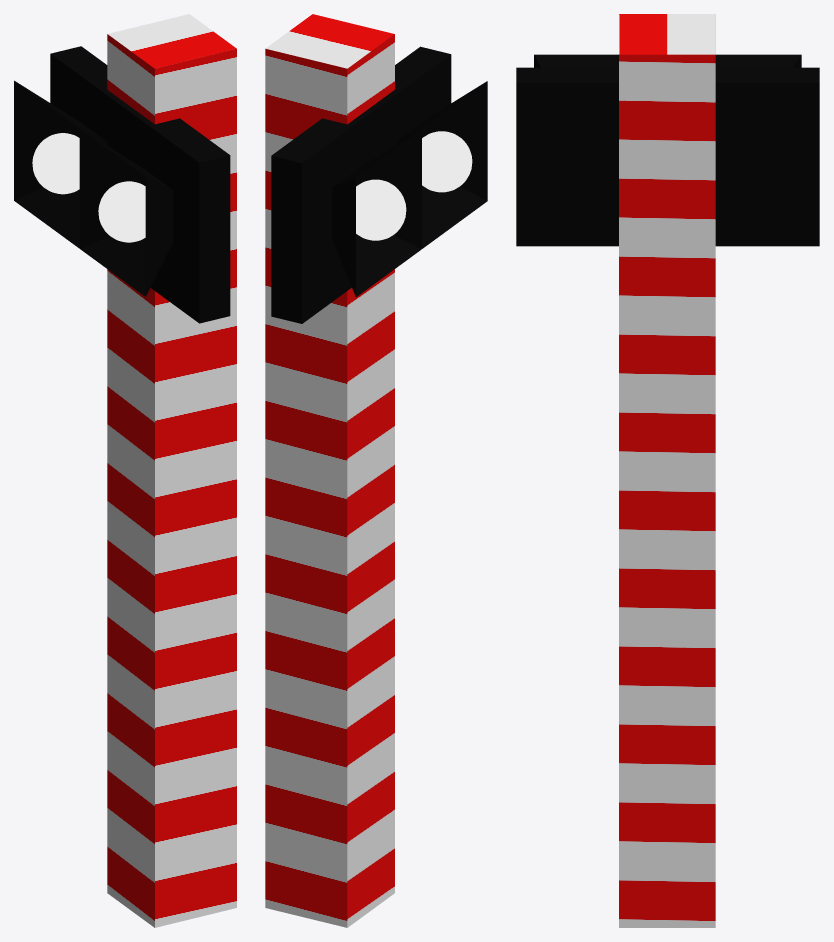
The model's file is pole.fbx.
3 views of the same model, side by side, from view 1: azimuth 30°, elevation 25°; view 2: azimuth 150°, elevation 25°; view 3: azimuth 270°, elevation 25° (orthographic).
Visible parts, largest first — view 1: Pole, holder-main, holder-right, holder-left, bulb-right, bulb-left; view 2: Pole, holder-main, holder-left, holder-right, bulb-right, bulb-left; view 3: Pole, holder-main, holder-left, holder-right.
Part boxes in pixels (x1,y1,x2,y2): Pole: (107, 14, 236, 927); holder-main: (50, 46, 230, 323); holder-right: (80, 129, 173, 296); holder-left: (14, 80, 107, 248); bulb-right: (98, 181, 145, 242); bulb-left: (32, 133, 79, 194); Pole: (265, 14, 394, 927); holder-main: (271, 46, 451, 323); holder-left: (332, 129, 421, 297); holder-right: (398, 81, 487, 248); bulb-right: (422, 131, 472, 192); bulb-left: (356, 179, 406, 240); Pole: (619, 14, 715, 927); holder-main: (516, 67, 819, 246); holder-left: (715, 54, 801, 67); holder-right: (534, 54, 618, 67).
Size of the model in its own units: 36.14 by 205 by 64.36.
